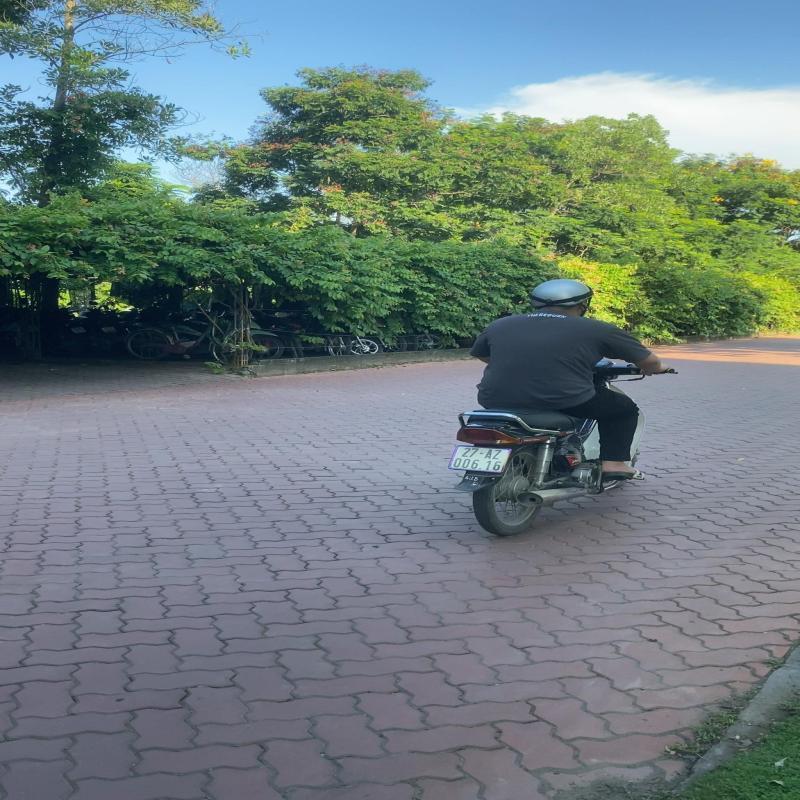helmet: (530, 280, 594, 312)
licenseplate: (448, 444, 513, 472)
motorcyclist: (446, 279, 676, 537)
